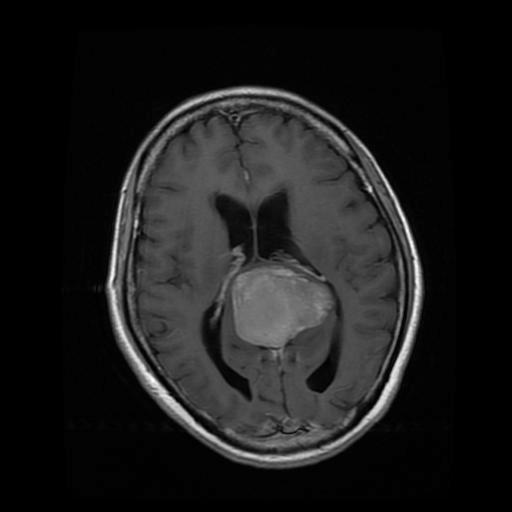Tumour-Meningioma: (209, 248, 364, 379)
